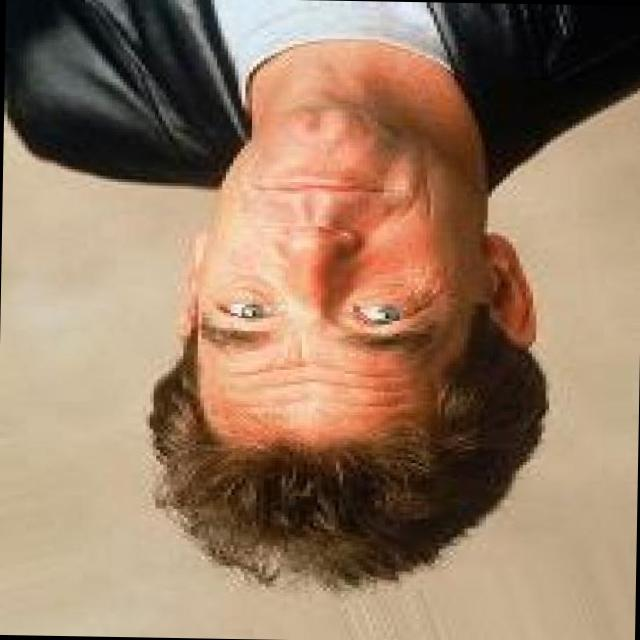bareface: (168, 101, 506, 439)
